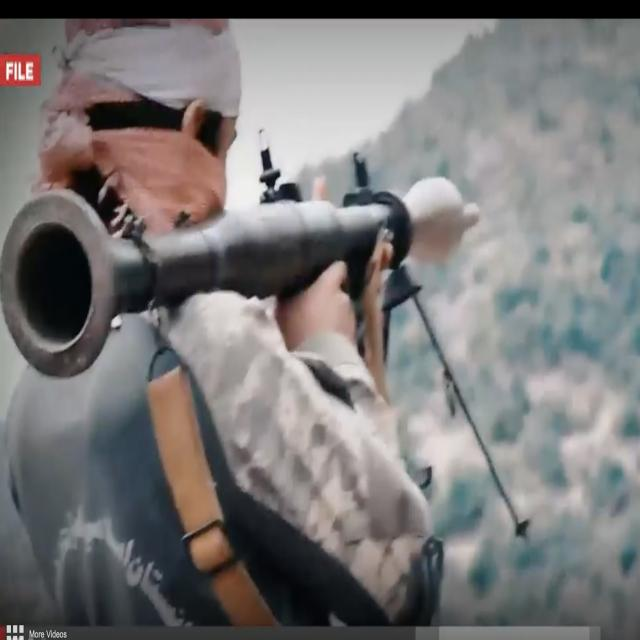bazooka: (29, 146, 484, 379)
